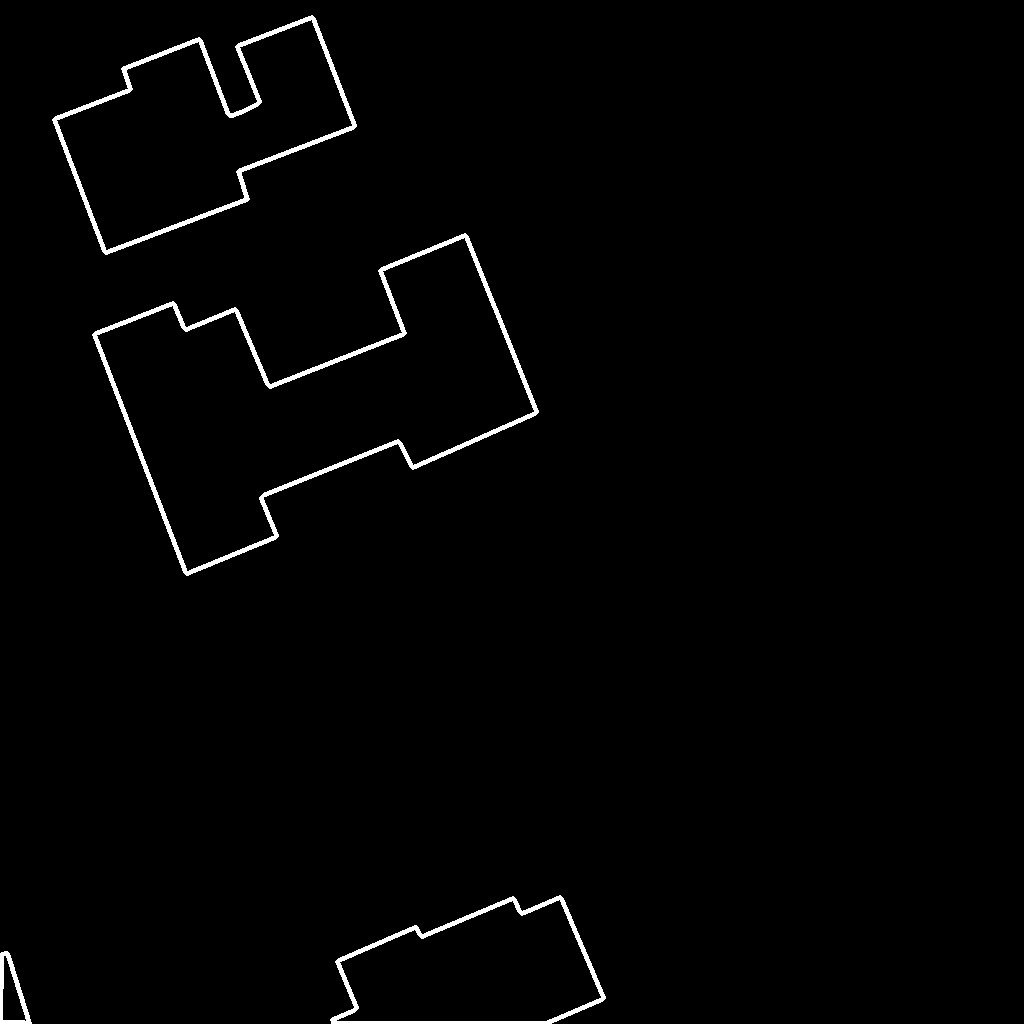building: (94, 235, 538, 575), (54, 17, 356, 254), (332, 897, 605, 1024), (0, 953, 31, 1024)
